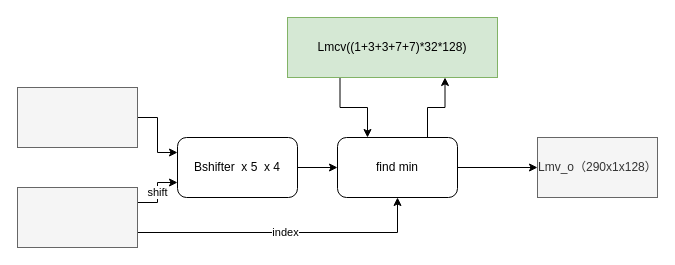
The diagram is 675 pixels wide and 265 high, and some of its shapes have lost their labels. The box of each missing label's shape, as (x1, y1, x2, y2) in pixels:
Lcn（290x4x128）: (16, 86, 138, 148)
Matrix(290x(5+7)x5): (16, 186, 138, 248)
